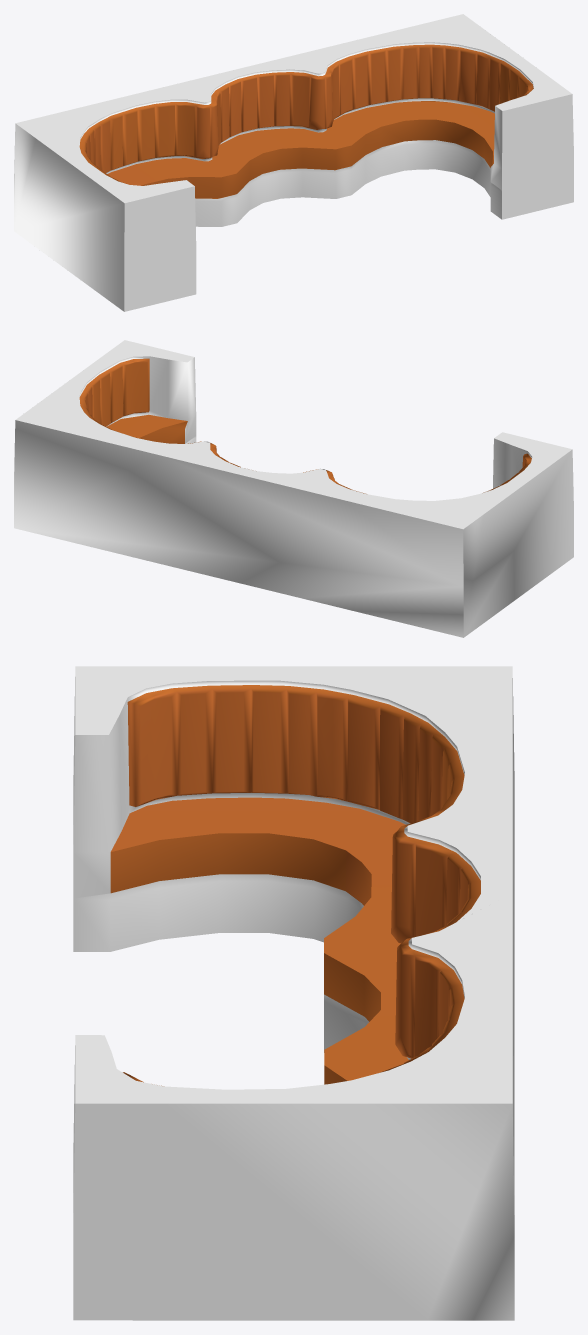
The model's file is 8ae962da-f426-4605-baaf-87bdafa3473e.glb.
The picture shows the model from 3 angles, top to bottom: view 1: azimuth 30°, elevation 25°; view 2: azimuth 150°, elevation 25°; view 3: azimuth 270°, elevation 25°; orthographic projection. The views are drawn at different scales.
Visible parts, largest first — view 1: BarCouch.002; view 2: BarCouch.002; view 3: BarCouch.002.
Part boxes in pixels (x1,y1,x2,y2): BarCouch.002: [14, 14, 573, 311]; BarCouch.002: [14, 340, 573, 637]; BarCouch.002: [73, 666, 514, 1320].
Size of what is drawn, in the model's own units: 4.75 by 1.09 by 2.02.
Materials: 1 (1 with a texture image).
